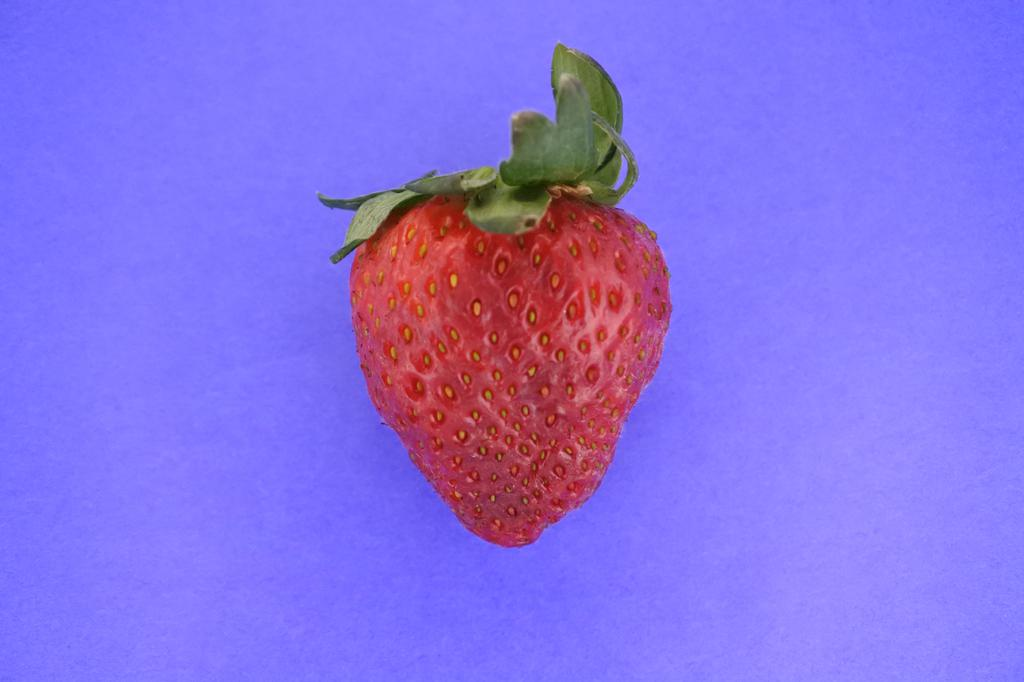red strawberry: (313, 38, 673, 552)
